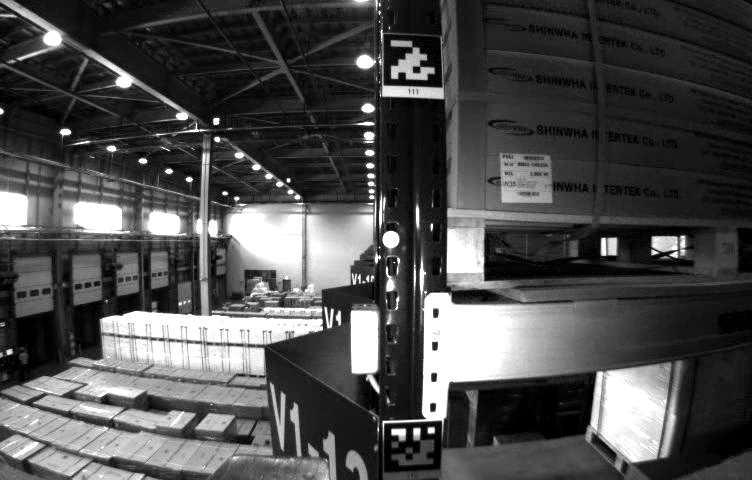True Barcode: (500, 151, 554, 202)
